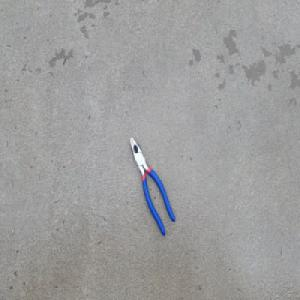Pliers: (128, 134, 176, 237)
